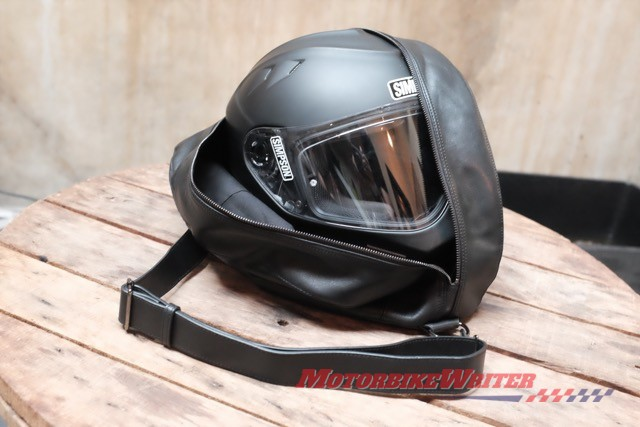with_helmet: (190, 22, 512, 332)
